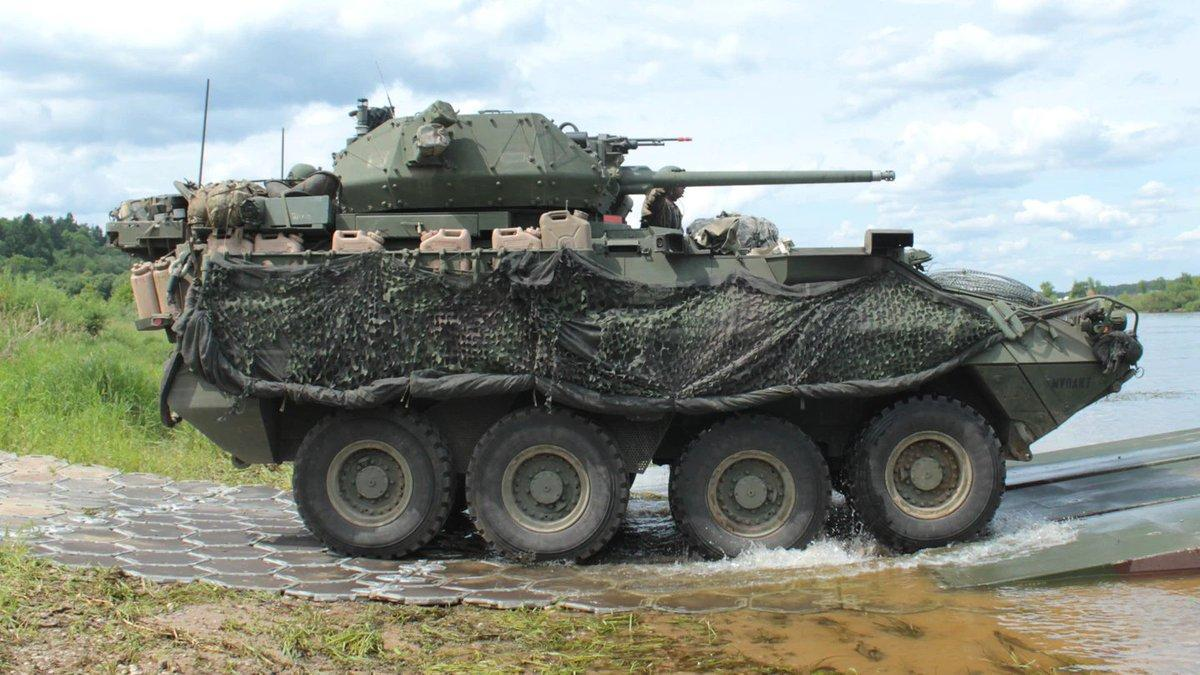tank: (107, 97, 1143, 569)
